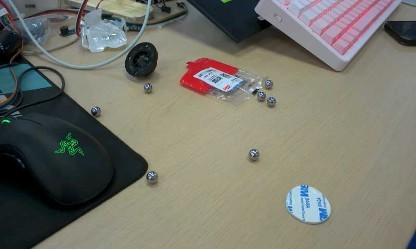ironball: (145, 170, 158, 184), (248, 148, 258, 161), (90, 105, 100, 117), (266, 96, 275, 107), (143, 82, 152, 93), (256, 91, 265, 101), (264, 79, 273, 88)
